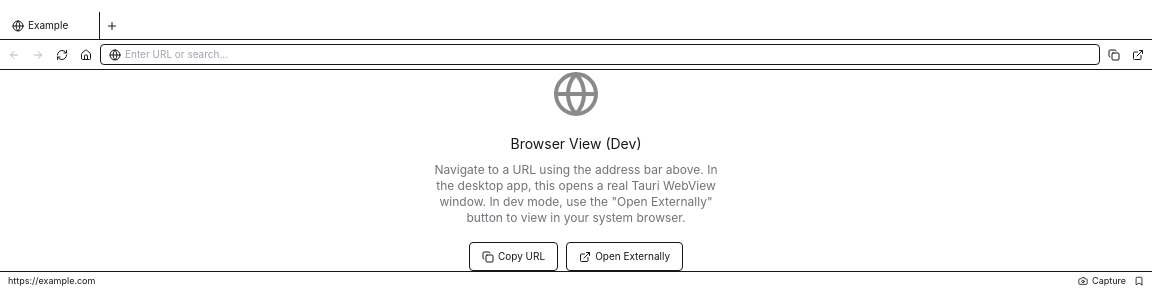
Test: BrowserConnector › URL input › shows a clear X button when input is non-empty
In the field with placeholder "Enter URL or search...": {"x": 608, "y": 54} left=125, top=47, right=1091, bottom=62, type "test"
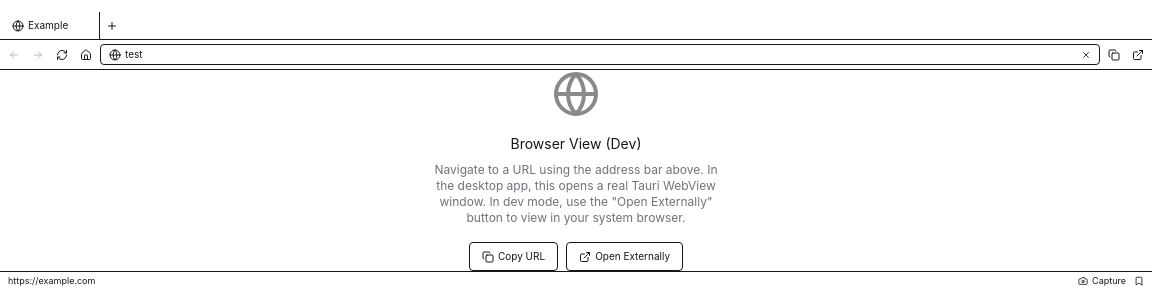
Check: the icon with class "lucide-x" is shown, box left=1081, top=50, right=1091, bottom=60
